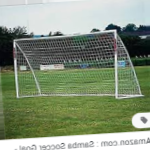goals: (11, 26, 146, 103)
